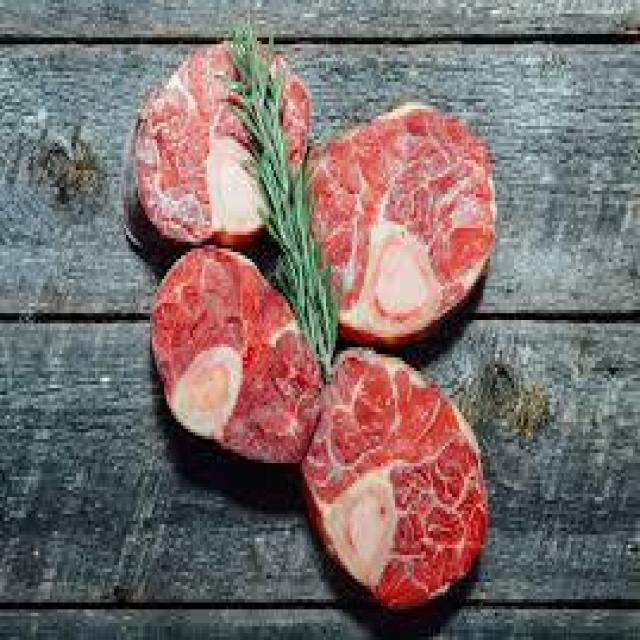beef: (308, 347, 482, 617)
